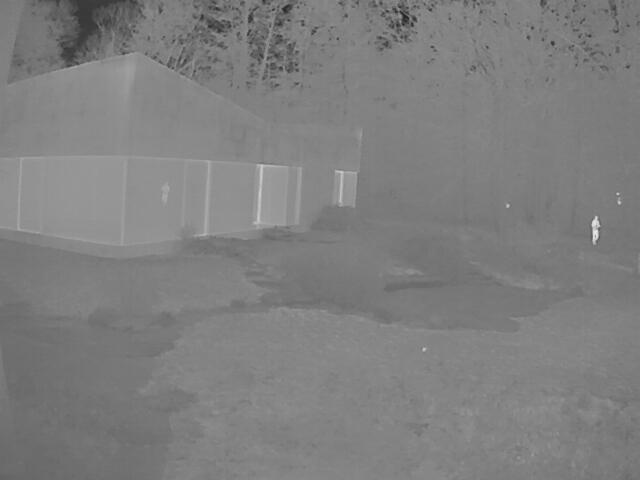person: (589, 214, 599, 244), (158, 182, 167, 204)
